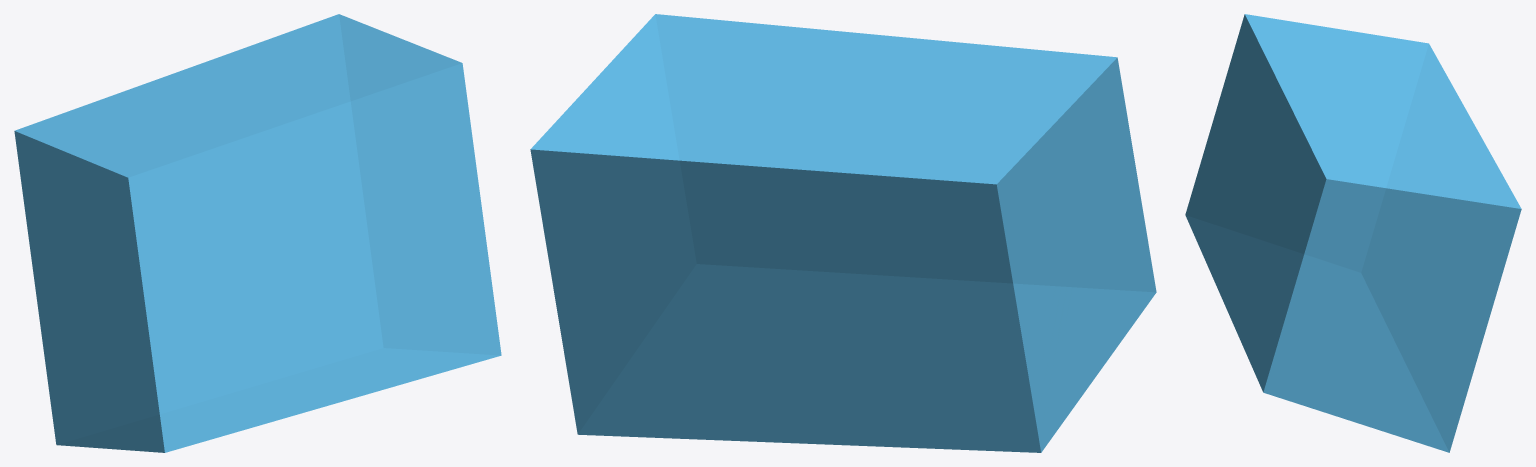
Rendered from Event_420107950_HErechit_57.fbx.
3 views of the same model, side by side, from view 1: azimuth 30°, elevation 25°; view 2: azimuth 150°, elevation 25°; view 3: azimuth 270°, elevation 25° (orthographic). The views are drawn at different scales.
Visible parts, largest first — view 1: Model; view 2: Model; view 3: Model.
Boxes of the visible parts, <box> form: Model: <box>14,14,501,452</box>; Model: <box>530,14,1156,452</box>; Model: <box>1185,14,1521,452</box>.
Bounding box in the file's own units: 0.6985 × 0.6176 × 0.6534.
